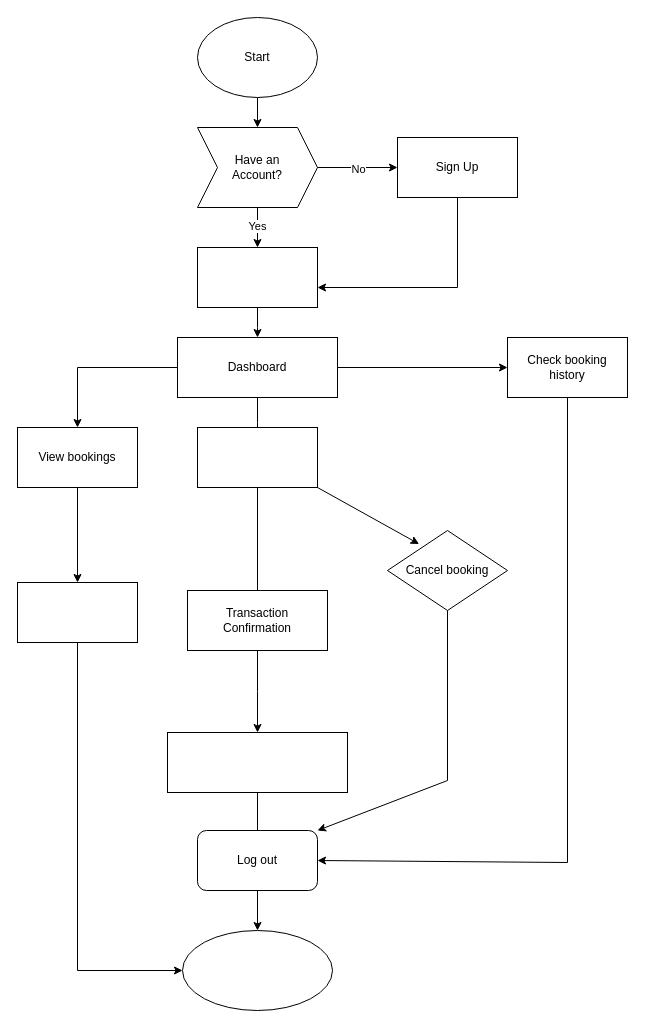
Some shapes in this 645 by 1028 pixel diagram are drawn without their labels. Here are the shapes that lost their labels. From the top down, the box of each, then its label:
(196, 246, 318, 308): Log In
(196, 426, 318, 488): Make Booking
(16, 582, 138, 642): View booking info
(166, 732, 348, 792): View travel status
(182, 930, 332, 1010): End
